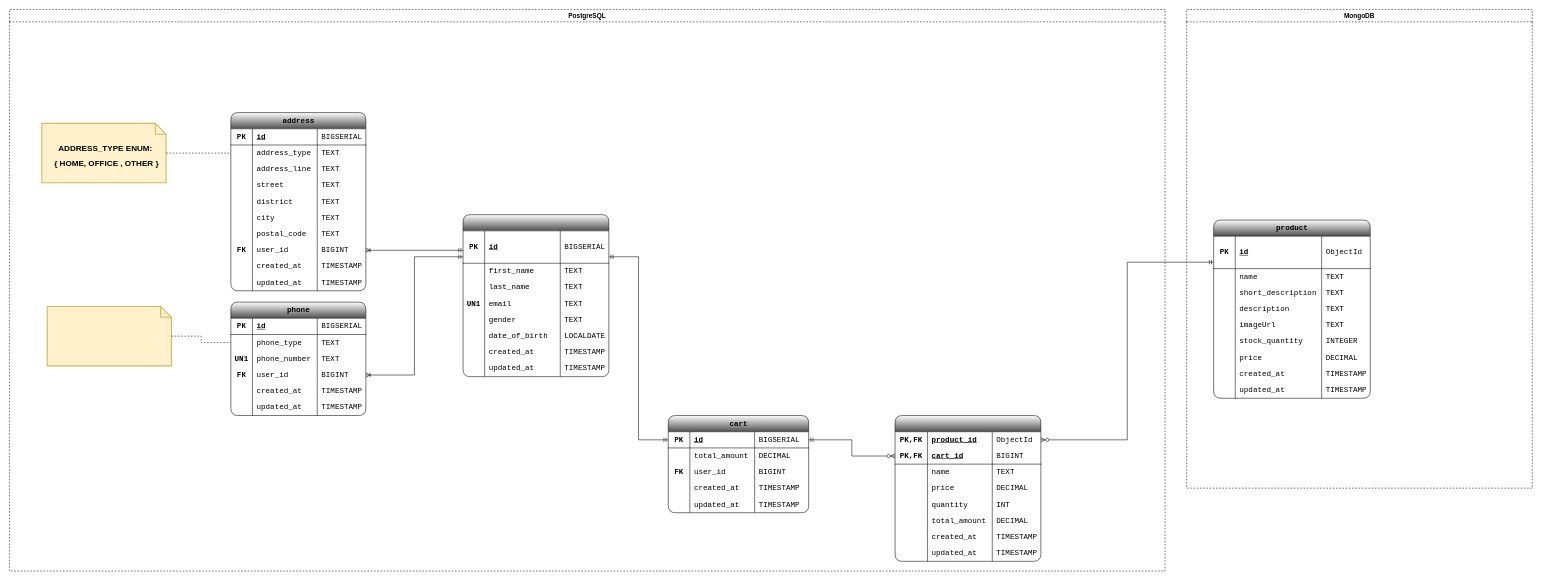
The diagram is 1542 pixels wide and 581 high, and some of its shapes have lost their labels. The box of each missing label's shape, as (x1, y1, x2, y2) in pixels:
_user: (463, 214, 609, 377)
cart_item: (895, 415, 1041, 561)
PHONE_TYPE ENUM: { HOME, MOBILE, WORK }: (46, 306, 172, 366)
